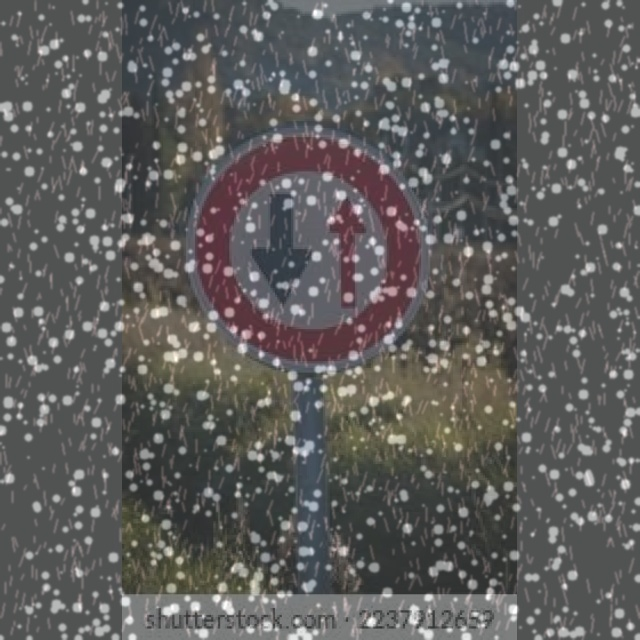Mandatory_Two_Way_Traffic: (188, 120, 447, 373)
